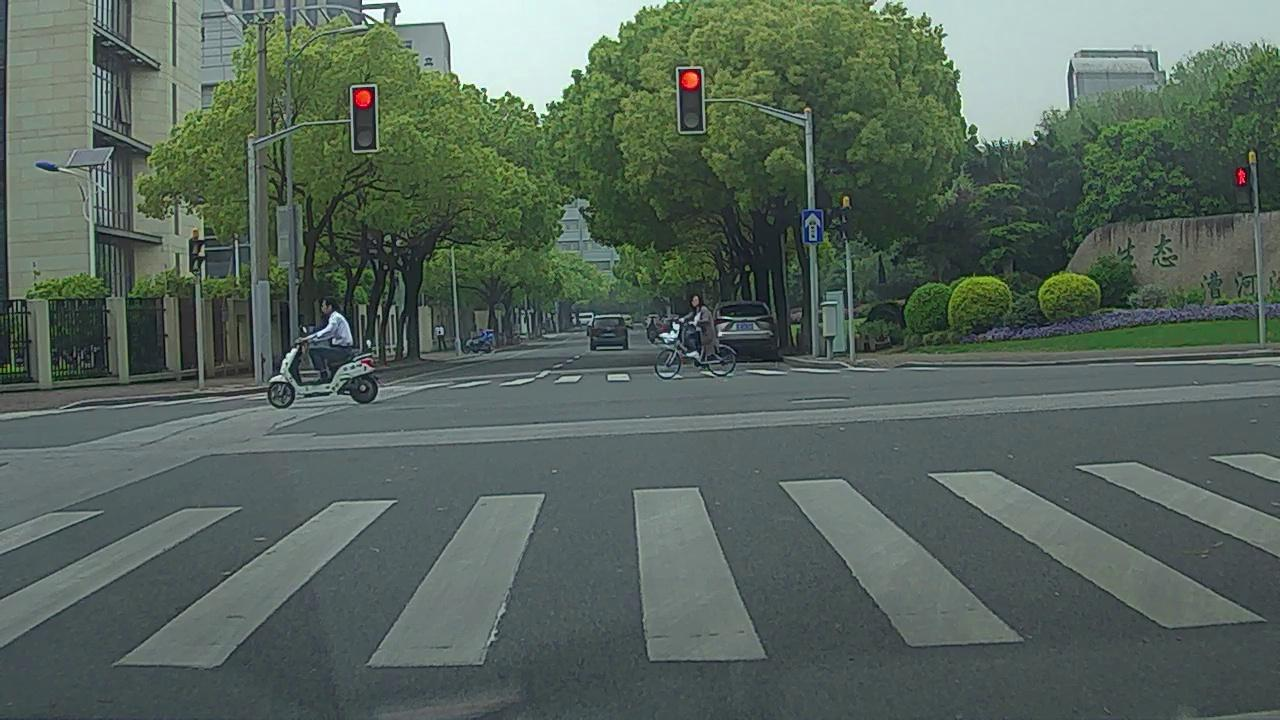traffic_light: (679, 69, 703, 132), (354, 85, 377, 148)
